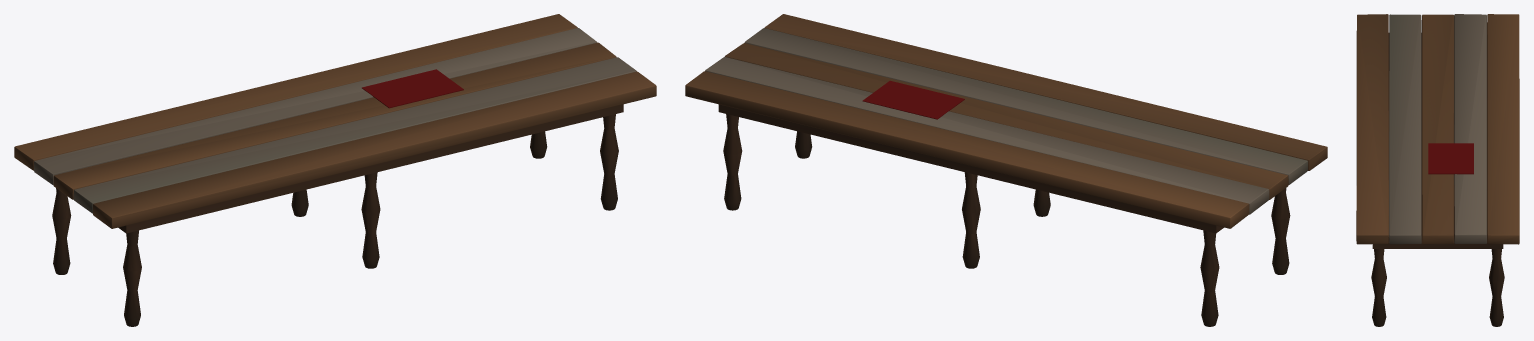
Rendered from DiningTable.glb.
3 views of the same model, side by side, from view 1: azimuth 30°, elevation 25°; view 2: azimuth 150°, elevation 25°; view 3: azimuth 270°, elevation 25° (orthographic). The views are drawn at different scales.
Visible parts, largest first — view 1: DiningTable_wood, DiningTable_wood_old, DiningTable_wood_dark, DiningTable_blood; view 2: DiningTable_wood, DiningTable_wood_old, DiningTable_wood_dark, DiningTable_blood; view 3: DiningTable_wood, DiningTable_wood_old, DiningTable_wood_dark, DiningTable_blood.
Boxes of the visible parts, x1=… form: DiningTable_wood: x1=14, y1=14, x2=656, y2=228; DiningTable_wood_old: x1=34, y1=28, x2=636, y2=213; DiningTable_wood_dark: x1=52, y1=104, x2=623, y2=326; DiningTable_blood: x1=362, y1=69, x2=463, y2=108; DiningTable_wood: x1=685, y1=14, x2=1327, y2=228; DiningTable_wood_old: x1=705, y1=28, x2=1307, y2=214; DiningTable_wood_dark: x1=718, y1=104, x2=1290, y2=326; DiningTable_blood: x1=862, y1=80, x2=964, y2=119; DiningTable_wood: x1=1356, y1=14, x2=1519, y2=244; DiningTable_wood_old: x1=1389, y1=14, x2=1486, y2=244; DiningTable_wood_dark: x1=1371, y1=33, x2=1504, y2=326; DiningTable_blood: x1=1428, y1=143, x2=1473, y2=174.
Size of the model in its own units: 16.02 by 3.52 by 4.99.
